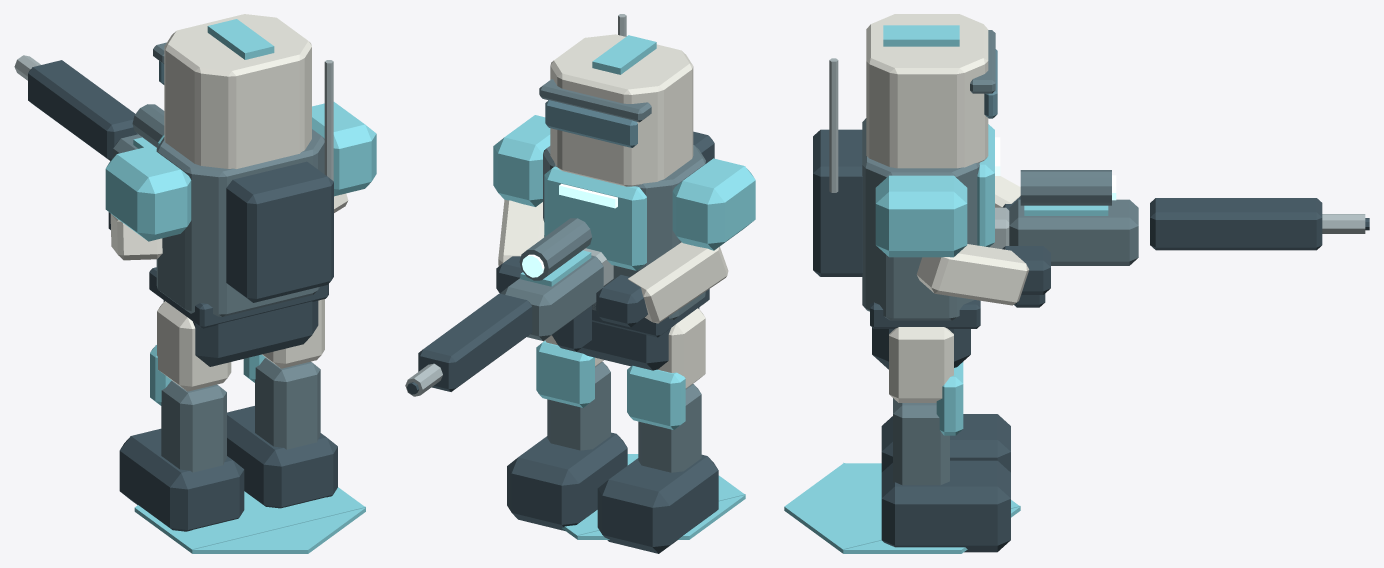
The model's file is fighter-rifle.glb.
3 views of the same model, side by side, from view 1: azimuth 30°, elevation 25°; view 2: azimuth 150°, elevation 25°; view 3: azimuth 270°, elevation 25° (orthographic). The views are drawn at different scales.
Visible parts, largest first — view 1: asset_fighter-rifle__FP_Ivory, asset_fighter-rifle__FP_Dark, asset_fighter-rifle__FP_Team, asset_fighter-rifle__FP_Armour, boot, boot.001, weapon__FP_Dark, shin, shin.001, Hexagon, Triangle, thigh (+4 smaller); view 2: asset_fighter-rifle__FP_Ivory, asset_fighter-rifle__FP_Team, boot, boot.001, weapon__FP_Dark, asset_fighter-rifle__FP_Dark, weapon__FP_Armour, asset_fighter-rifle__FP_Armour, shin, shin.001, knee, knee.001 (+7 smaller); view 3: asset_fighter-rifle__FP_Ivory, asset_fighter-rifle__FP_Dark, asset_fighter-rifle__FP_Team, boot.001, weapon__FP_Armour, weapon__FP_Dark, asset_fighter-rifle__FP_Armour, thigh.001, shin.001, Hexagon, boot, Triangle (+4 smaller).
Part boxes in pixels (left/top/right/bottom): asset_fighter-rifle__FP_Ivory: left=110, top=14, right=348, bottom=260; asset_fighter-rifle__FP_Dark: left=108, top=161, right=333, bottom=366; asset_fighter-rifle__FP_Team: left=105, top=19, right=376, bottom=241; asset_fighter-rifle__FP_Armour: left=153, top=42, right=324, bottom=316; boot: left=119, top=428, right=244, bottom=531; boot.001: left=227, top=406, right=337, bottom=508; weapon__FP_Dark: left=28, top=60, right=137, bottom=160; shin: left=161, top=380, right=226, bottom=472; shin.001: left=255, top=358, right=320, bottom=449; Hexagon: left=134, top=487, right=365, bottom=553; Triangle: left=192, top=491, right=365, bottom=549; thigh: left=157, top=301, right=231, bottom=391; asset_fighter-rifle__FP_Ivory: left=498, top=34, right=728, bottom=323; asset_fighter-rifle__FP_Team: left=493, top=35, right=755, bottom=270; boot: left=597, top=454, right=718, bottom=553; boot.001: left=507, top=432, right=627, bottom=530; weapon__FP_Dark: left=407, top=293, right=591, bottom=394; asset_fighter-rifle__FP_Dark: left=496, top=131, right=714, bottom=370; weapon__FP_Armour: left=501, top=218, right=603, bottom=340; asset_fighter-rifle__FP_Armour: left=539, top=79, right=705, bottom=320; shin: left=638, top=384, right=701, bottom=472; shin.001: left=547, top=362, right=610, bottom=450; knee: left=627, top=365, right=685, bottom=429; knee.001: left=536, top=340, right=594, bottom=407; asset_fighter-rifle__FP_Ivory: left=866, top=14, right=1029, bottom=305; asset_fighter-rifle__FP_Dark: left=813, top=129, right=1050, bottom=369; asset_fighter-rifle__FP_Team: left=875, top=25, right=994, bottom=257; boot.001: left=881, top=460, right=1010, bottom=552; weapon__FP_Armour: left=1009, top=170, right=1138, bottom=265; weapon__FP_Dark: left=1014, top=198, right=1369, bottom=307; asset_fighter-rifle__FP_Armour: left=862, top=30, right=995, bottom=320; thigh.001: left=889, top=327, right=953, bottom=402; shin.001: left=893, top=398, right=949, bottom=485; Hexagon: left=784, top=463, right=1020, bottom=553; boot: left=881, top=414, right=1010, bottom=472; Triangle: left=843, top=462, right=1020, bottom=549.
Bounding box in the file's own units: 0.74 × 1.4 × 1.54.
